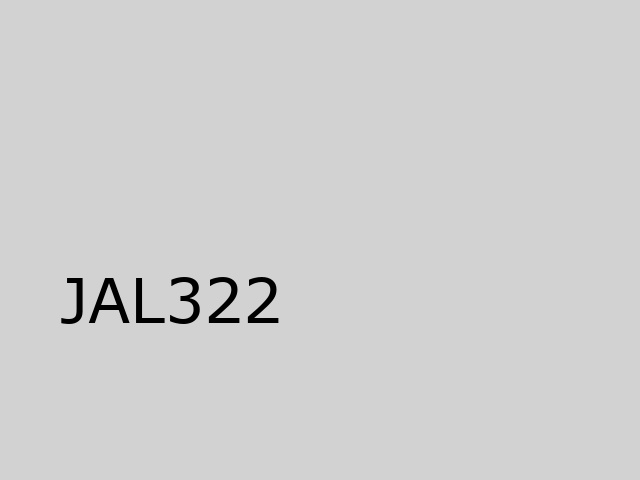OCR_AREA: (56, 273, 286, 328)
